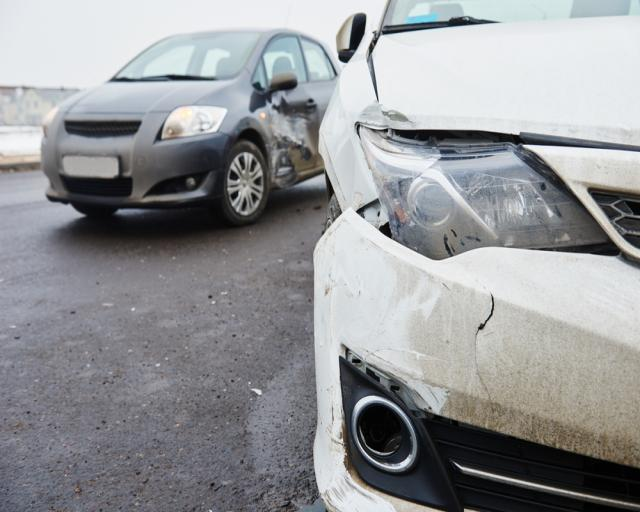crack: (474, 278, 495, 423)
dent: (271, 99, 314, 185), (355, 103, 388, 127)
lamp broken: (359, 125, 608, 257)
scratch: (320, 385, 383, 512)
